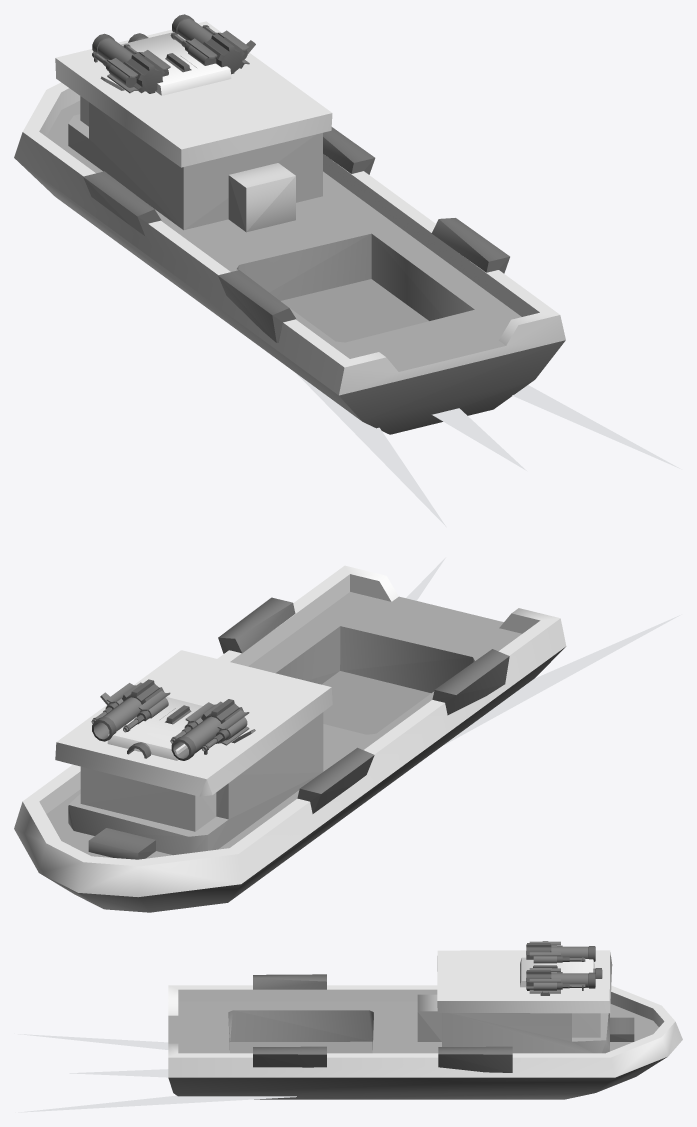
File: emerald_gunboat.glb
3 renders of one model, top to bottom at view 1: azimuth 30°, elevation 25°; view 2: azimuth 150°, elevation 25°; view 3: azimuth 270°, elevation 25°, orthographic. The views are drawn at different scales.
Visible parts, largest first — view 1: Body, Turret, Wake; view 2: Body, Turret, Wake; view 3: Body, Turret, Wake.
Part boxes in pixels (box(x1,y1,x2,y2)): Body: box(14, 21, 565, 434); Turret: box(92, 14, 255, 93); Wake: box(296, 373, 681, 527); Body: box(14, 565, 566, 912); Turret: box(91, 679, 255, 760); Wake: box(406, 557, 681, 746); Body: box(168, 950, 682, 1099); Turret: box(526, 941, 602, 995); Wake: box(14, 1033, 296, 1112).
Size of the model in its own units: 9.56 by 6.98 by 33.8.
Materials: 3 (1 with a texture image).
